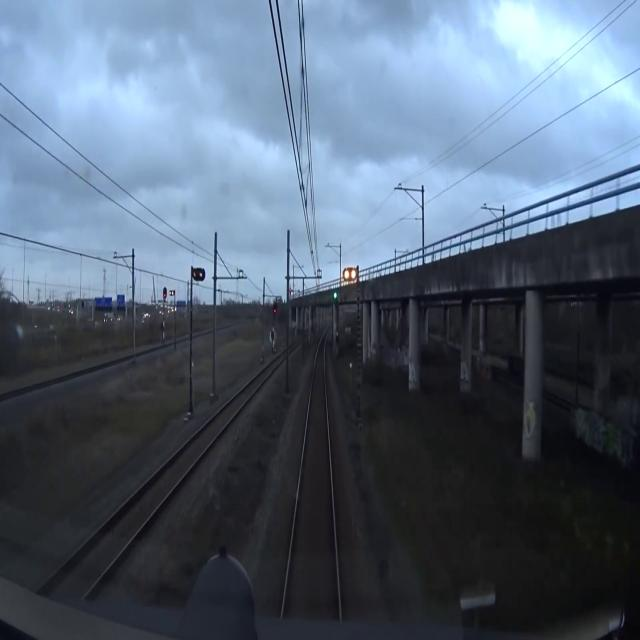rail-track: (0, 350, 286, 639), (281, 334, 338, 639)
